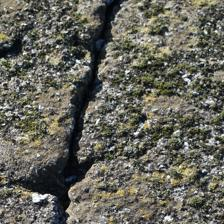Crack: (16, 3, 134, 223)
